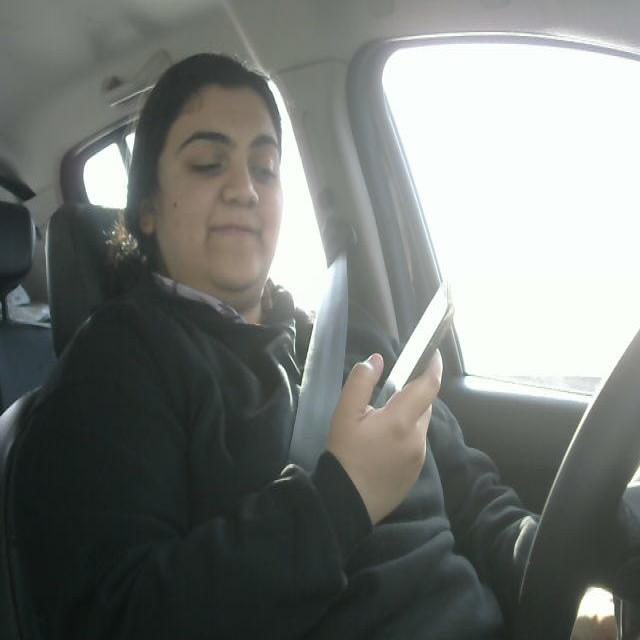mobile use: (373, 274, 462, 418)
